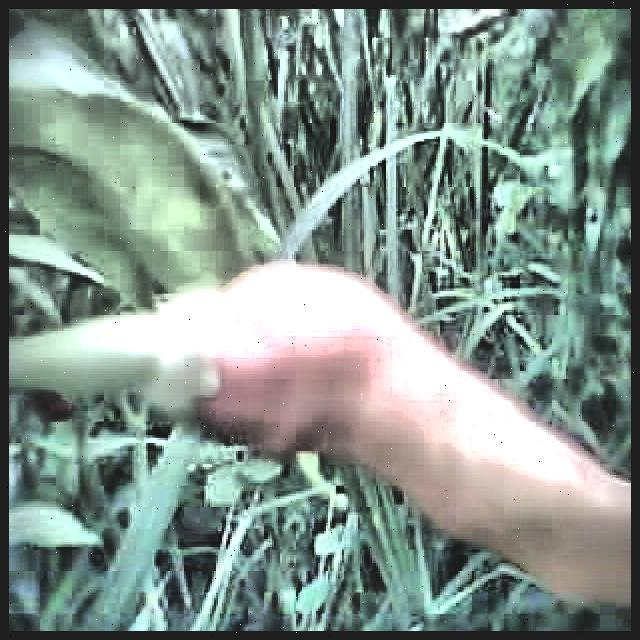Cabai: (123, 262, 631, 565)
